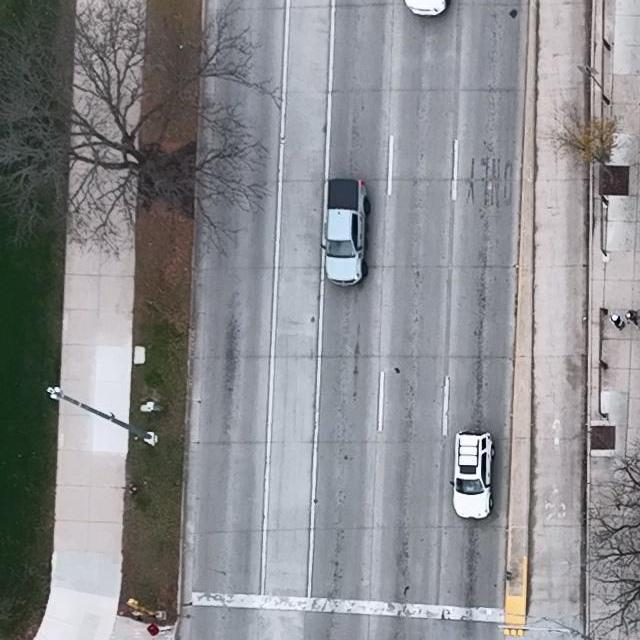car: (321, 178, 371, 286), (449, 430, 495, 520), (403, 0, 449, 17)
